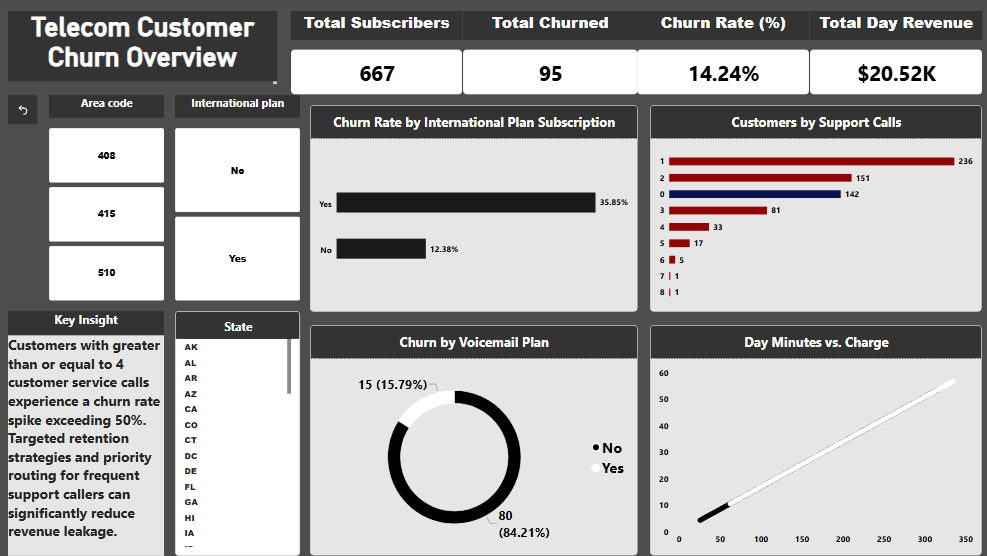

This screenshot's page, from the dashboard's own definition file:
{"tool":"powerbi","page":{"name":"Page 1","canvas":[1920,1080],"ordinal":0},"visuals":[{"type":"cardVisual","title":"Total Subscribers","fields":{"Data":["churn-bigml-20 2.Total Customers"]},"box":[567.6,25.5,331.7,161.6],"z":0},{"type":"cardVisual","title":"Total Churned","fields":{"Data":["churn-bigml-20 2.Total Churned"]},"box":[899.3,25.5,338,161.6],"z":1000},{"type":"cardVisual","title":"Churn Rate (%)","fields":{"Data":["churn-bigml-20 2.Churn Rate (%)"]},"box":[1237.3,25.5,333.8,161.6],"z":2000},{"type":"cardVisual","title":"Total Day Revenue","fields":{"Data":["churn-bigml-20 2.Total Day Revenue"]},"box":[1571.1,25.5,333.8,161.6],"z":3000},{"type":"clusteredBarChart","title":"Churn Rate by International Plan Subscription","fields":{"Category":["churn-bigml-20 2.International plan"],"Y":["churn-bigml-20 2.Churn Rate (%)"]},"box":[603.8,206.2,633.5,399.7],"z":4000},{"type":"clusteredBarChart","title":"Customers by Support Calls","fields":{"Category":["churn-bigml-20 2.Customer service calls"],"Y":["churn-bigml-20 2.Total Customers"]},"box":[1262.8,206.2,642,399.7],"z":5000},{"type":"donutChart","title":"Churn by Voicemail Plan","fields":{"Category":["churn-bigml-20 2.Voice mail plan"],"Y":["churn-bigml-20 2.Total Churned"]},"box":[603.8,633.5,633.5,446.5],"z":6000},{"type":"lineChart","title":"Day Minutes vs. Charge","fields":{"Category":["churn-bigml-20 2.Total day minutes"],"Y":["Avg(churn-bigml-20 2.Total day charge)"],"Series":["churn-bigml-20 2.Churn"]},"box":[1262.8,633.5,642,446.5],"z":7000},{"type":"advancedSlicerVisual","fields":{"Values":["churn-bigml-20 2.International plan"]},"box":[342.3,187.1,242.4,418.8],"z":8000},{"type":"advancedSlicerVisual","fields":{"Values":["churn-bigml-20 2.Area code"]},"box":[97.8,187.1,223.2,418.8],"z":9000},{"type":"listSlicer","fields":{"Values":["churn-bigml-20 2.State"]},"box":[342.3,605.9,242.4,474.1],"z":10000},{"type":"textbox","title":"Telecom Customer Churn Overview","box":[19.1,25.5,520.9,142.4],"z":11000},{"type":"actionButton","box":[19.1,187.1,57.4,57.4],"z":12000},{"type":"textbox","title":"Key Insight","box":[19.1,605.9,301.9,474.1],"z":13000}]}

Visuals, with their boxes in screenshot pixels (x1, y1, x2, y2), scaled from the page's 1920x1080 canvas onto the 987x556 screenshot:
"Total Subscribers" cardVisual: x1=292, y1=13, x2=462, y2=96
"Total Churned" cardVisual: x1=462, y1=13, x2=636, y2=96
"Churn Rate (%)" cardVisual: x1=636, y1=13, x2=808, y2=96
"Total Day Revenue" cardVisual: x1=808, y1=13, x2=979, y2=96
"Churn Rate by International Plan Subscription" clusteredBarChart: x1=310, y1=106, x2=636, y2=312
"Customers by Support Calls" clusteredBarChart: x1=649, y1=106, x2=979, y2=312
"Churn by Voicemail Plan" donutChart: x1=310, y1=326, x2=636, y2=555
"Day Minutes vs. Charge" lineChart: x1=649, y1=326, x2=979, y2=555
advancedSlicerVisual - churn-bigml-20 2.International plan: x1=176, y1=96, x2=301, y2=312
advancedSlicerVisual - churn-bigml-20 2.Area code: x1=50, y1=96, x2=165, y2=312
listSlicer - churn-bigml-20 2.State: x1=176, y1=312, x2=301, y2=555
"Telecom Customer Churn Overview" textbox: x1=10, y1=13, x2=278, y2=86
actionButton: x1=10, y1=96, x2=39, y2=126
"Key Insight" textbox: x1=10, y1=312, x2=165, y2=555
